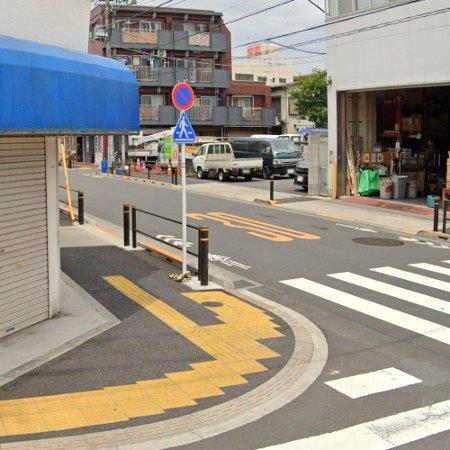crosswalks: (280, 255, 450, 348)
